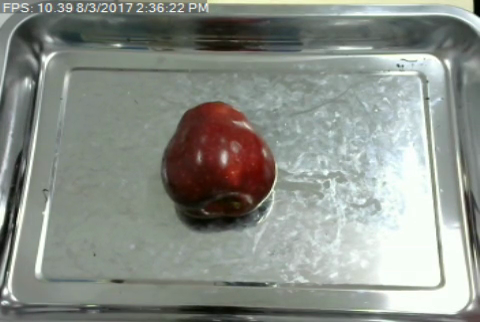Apple: (159, 98, 278, 228)
